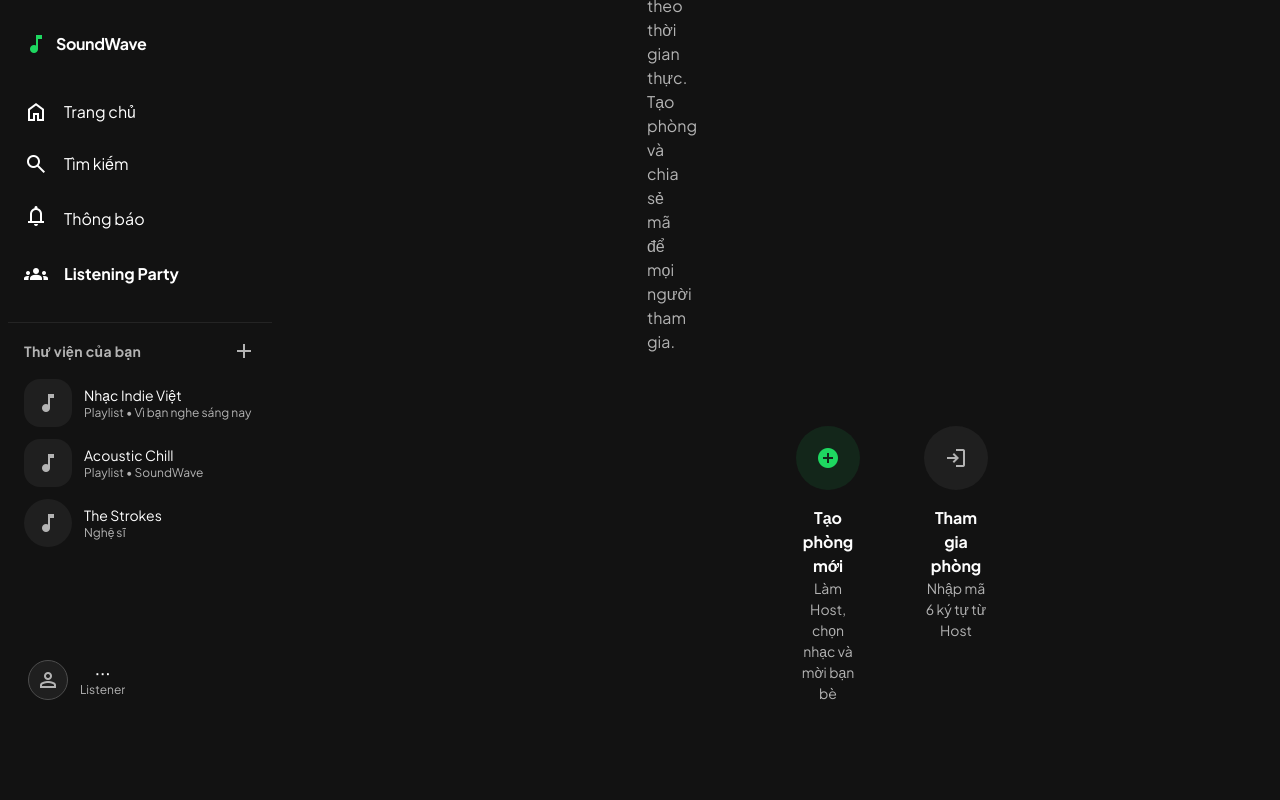
it: PartyLandingPage › opens CreateRoomModal when Tạo phòng mới clicked
The width and height of the screenshot is (1280, 800).
(page scrolled)
Click the button "Tạo phòng mới Làm Host, chọn nhạc và mời bạn bè". click: (828, 565)
box: 772,402 -> 884,728
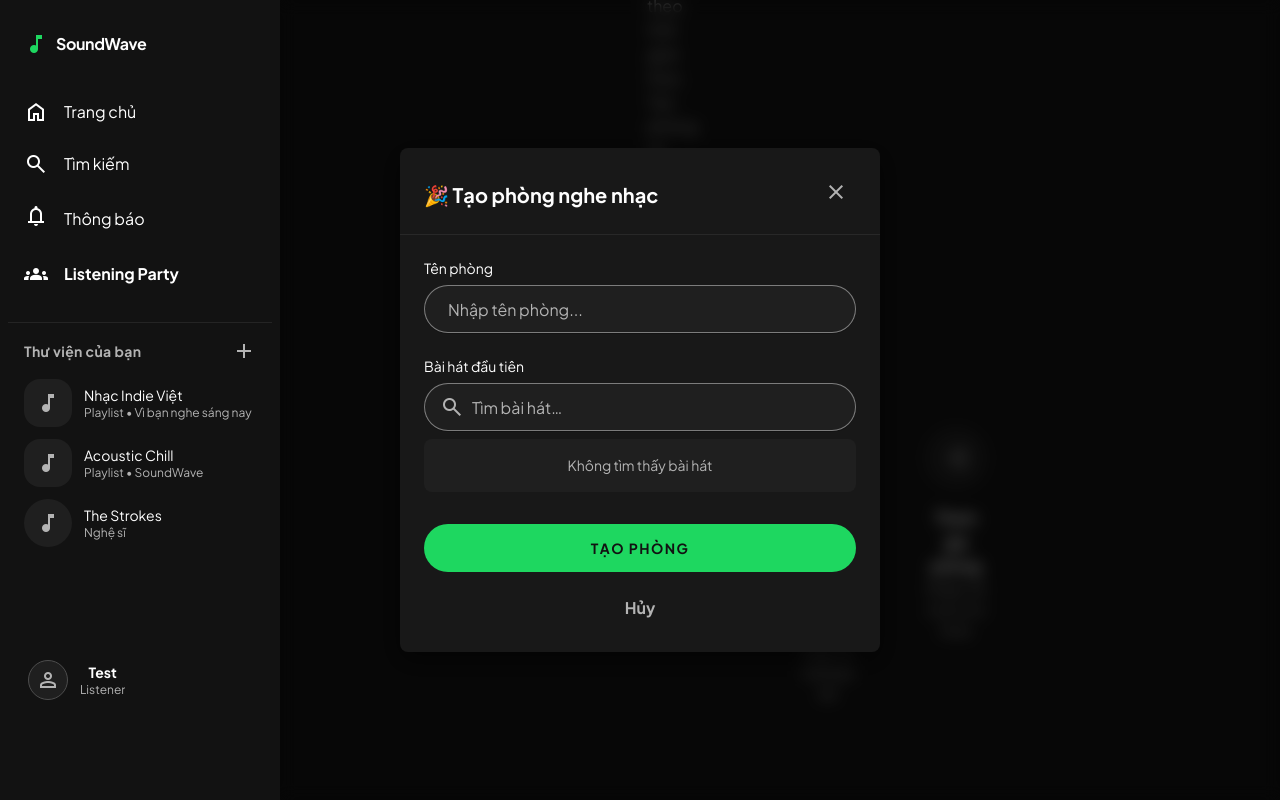
Result: the dialog "Tạo phòng nghe nhạc" is shown
